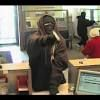gun: (44, 28, 66, 46)
